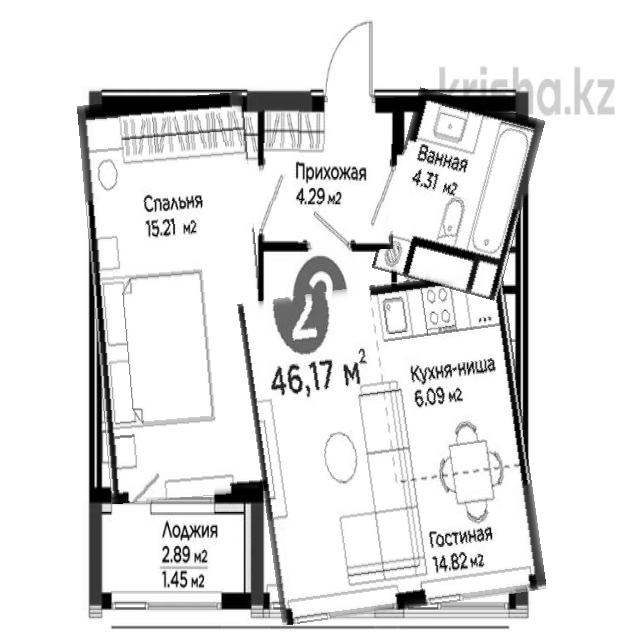balcony: (94, 504, 258, 612)
bathroom: (383, 94, 535, 295)
hallway: (260, 95, 394, 249)
living_room: (85, 95, 269, 501)
studio: (248, 276, 535, 617)
